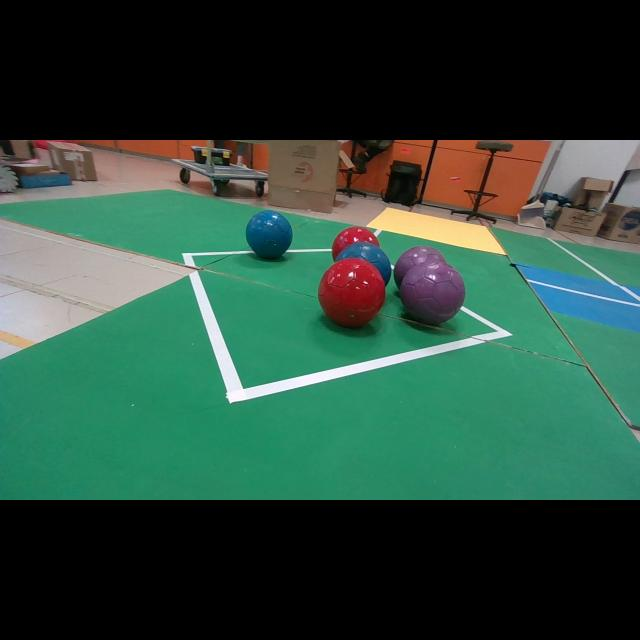B: (337, 242, 391, 284), (246, 211, 291, 259)
P: (400, 261, 465, 325), (394, 245, 445, 288)
R: (318, 258, 385, 326), (332, 228, 380, 259)
